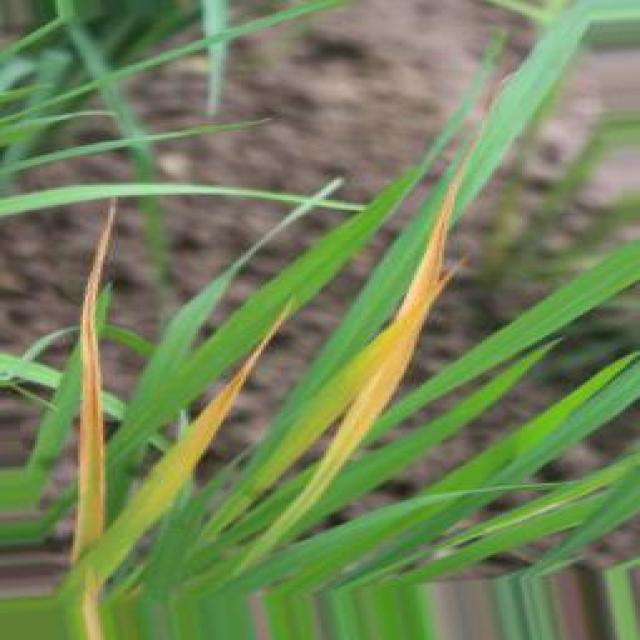Rice Tungro: (250, 180, 456, 562), (77, 309, 289, 639), (75, 200, 116, 561)
